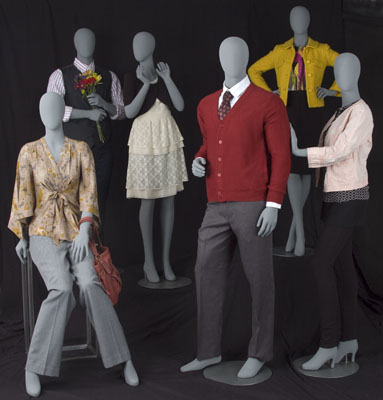person-like: (5, 89, 142, 398), (177, 33, 294, 382), (289, 49, 376, 375), (245, 3, 345, 258), (119, 27, 190, 286), (44, 24, 127, 152)
